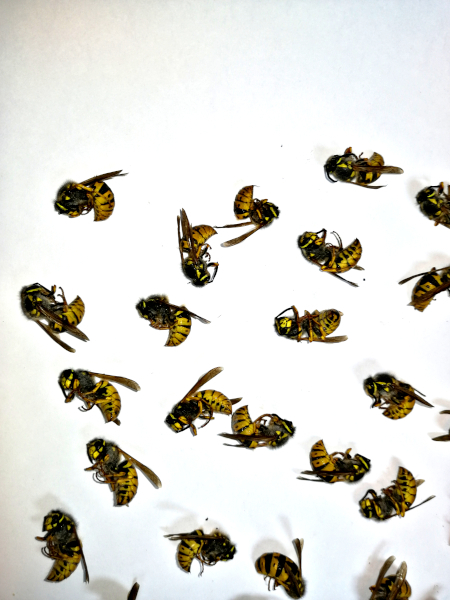chax: (78, 434, 166, 517), (19, 504, 100, 592), (11, 274, 94, 357), (40, 367, 138, 434), (45, 163, 132, 235), (124, 288, 216, 354), (162, 204, 226, 297), (315, 140, 408, 202), (159, 364, 235, 438), (356, 364, 438, 432), (358, 465, 436, 534), (167, 517, 248, 582), (296, 220, 373, 287), (268, 299, 358, 355), (224, 399, 306, 458), (221, 179, 285, 250), (249, 534, 317, 600), (295, 439, 381, 490), (394, 255, 450, 313), (351, 551, 416, 600), (416, 177, 450, 231)
